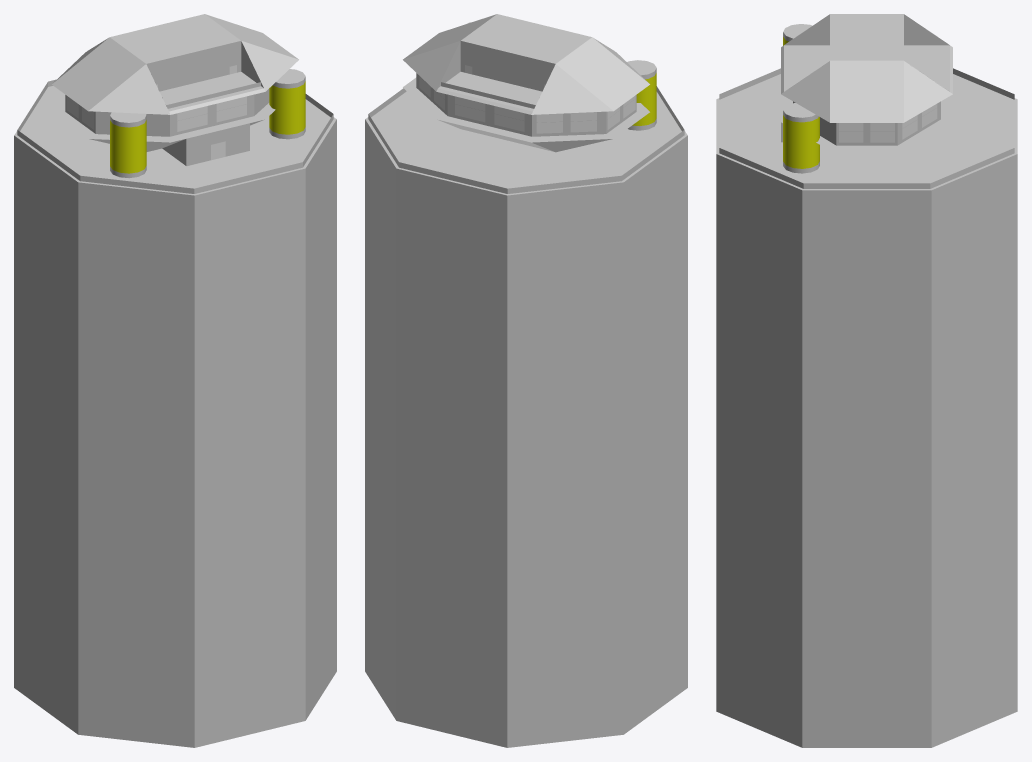
Rendered from factory1_lod2.dae.
3 views of the same model, side by side, from view 1: azimuth 30°, elevation 25°; view 2: azimuth 150°, elevation 25°; view 3: azimuth 270°, elevation 25° (orthographic).
Parts seen in each view (by area): view 1: factory1_lod2; view 2: factory1_lod2; view 3: factory1_lod2.
Part boxes in pixels (x1,y1,x2,y2): factory1_lod2: [14, 14, 336, 747]; factory1_lod2: [365, 14, 687, 747]; factory1_lod2: [716, 14, 1017, 747].
Bounding box in the file's own units: 98 × 98 × 232.
